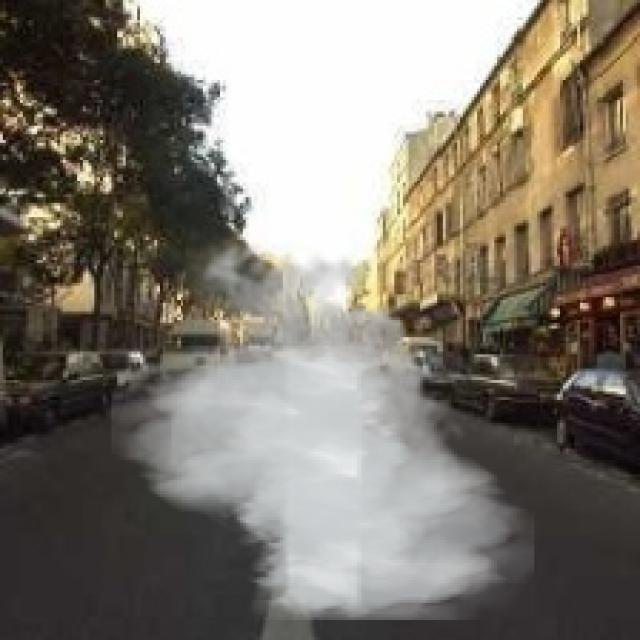Smoke: (111, 231, 534, 620)
